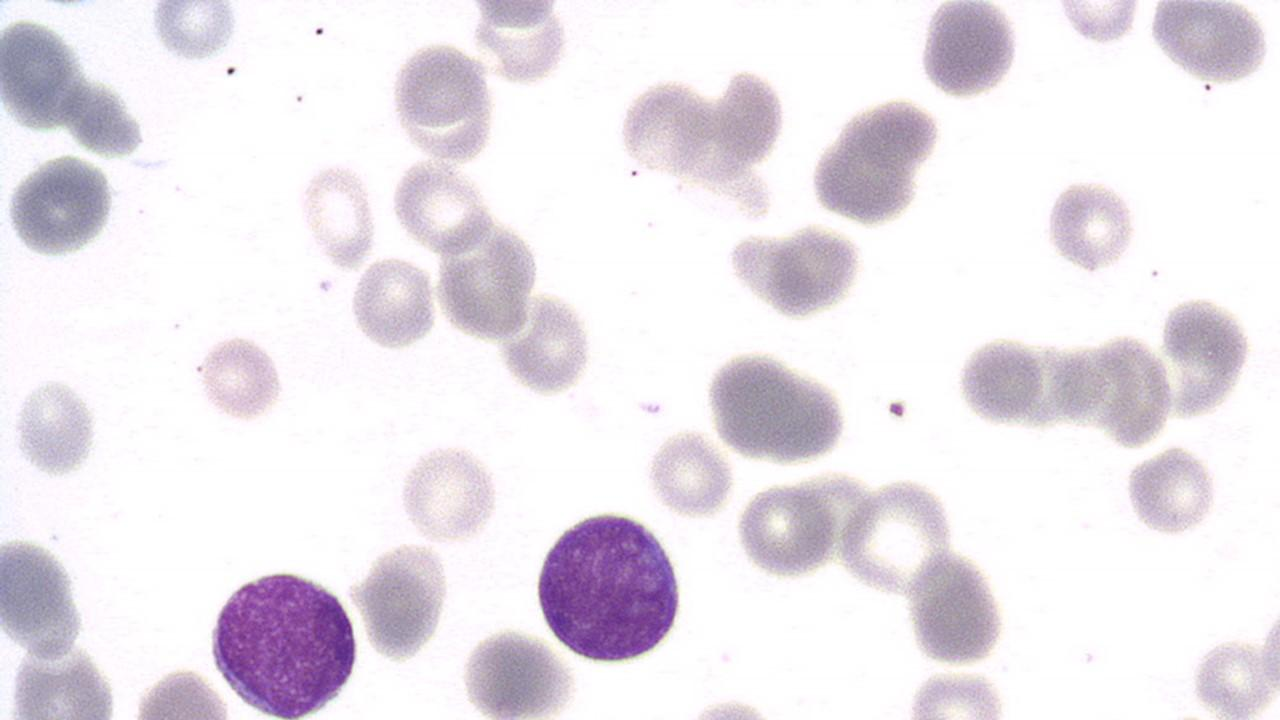Platelets: (630, 394, 670, 420)
RBC: (702, 351, 850, 467), (809, 97, 940, 223), (834, 479, 952, 601), (1150, 294, 1254, 420), (900, 548, 1006, 670), (4, 154, 118, 260), (356, 538, 450, 662), (397, 439, 500, 547), (914, 1, 1025, 101), (436, 233, 535, 344), (0, 533, 87, 659), (1145, 1, 1273, 85), (733, 481, 839, 580), (392, 158, 494, 258), (1, 13, 86, 133), (499, 289, 595, 395), (616, 78, 716, 177), (1090, 331, 1174, 448), (9, 378, 102, 481), (294, 159, 380, 269), (1124, 442, 1218, 542), (764, 223, 862, 318), (1041, 174, 1133, 275), (192, 331, 288, 427), (388, 40, 487, 128), (348, 254, 438, 350), (954, 334, 1045, 428), (644, 428, 734, 521), (1187, 633, 1279, 717), (1012, 339, 1080, 436), (1048, 340, 1110, 433), (149, 1, 237, 64), (900, 670, 1012, 718), (1257, 596, 1279, 710)
WBC: (528, 504, 686, 666), (203, 562, 363, 716)
